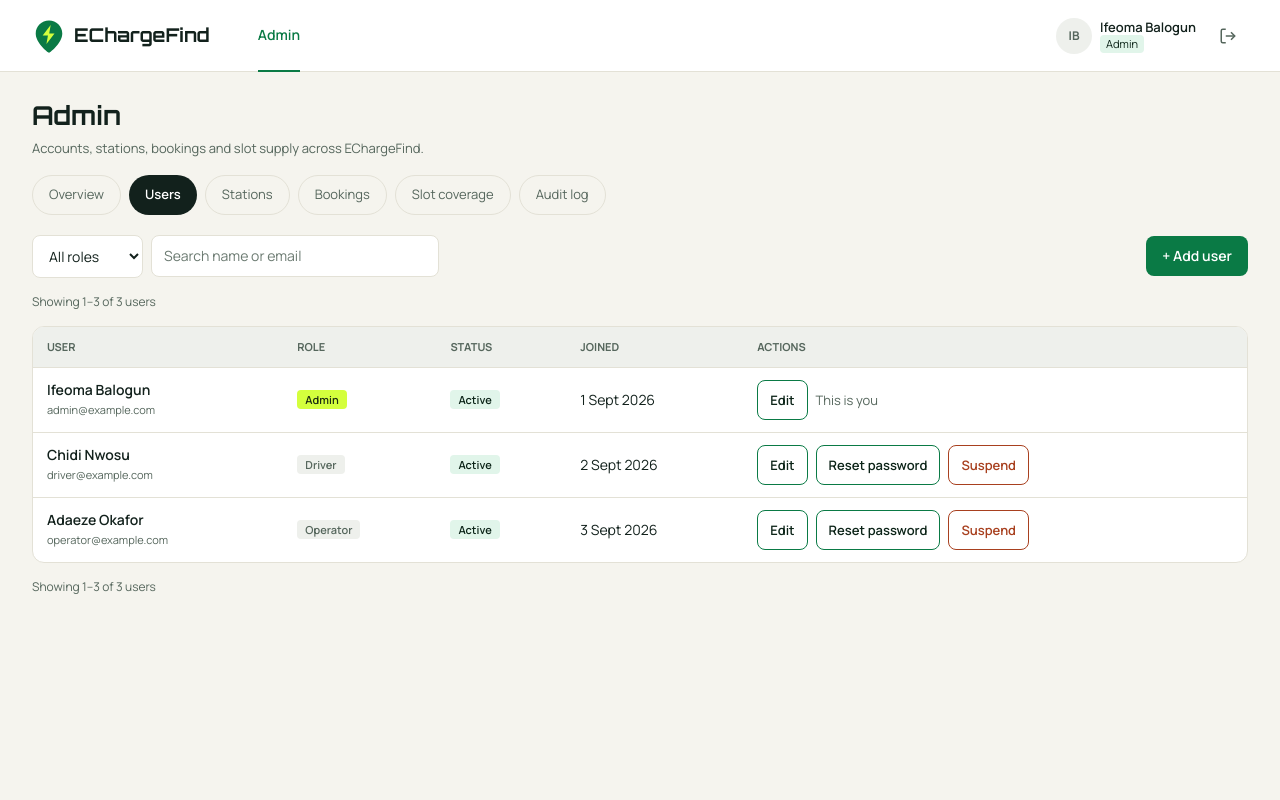
Scenario: admin users › shows the server's reason inside the dialog when a suspension is refused
Expected: the text "Chidi Nwosu" is shown, [47,444,130,464]
Click the button with aria-label "Suspend Adaeze Okafor". click: click(989, 530)
box: [948,510,1029,550]
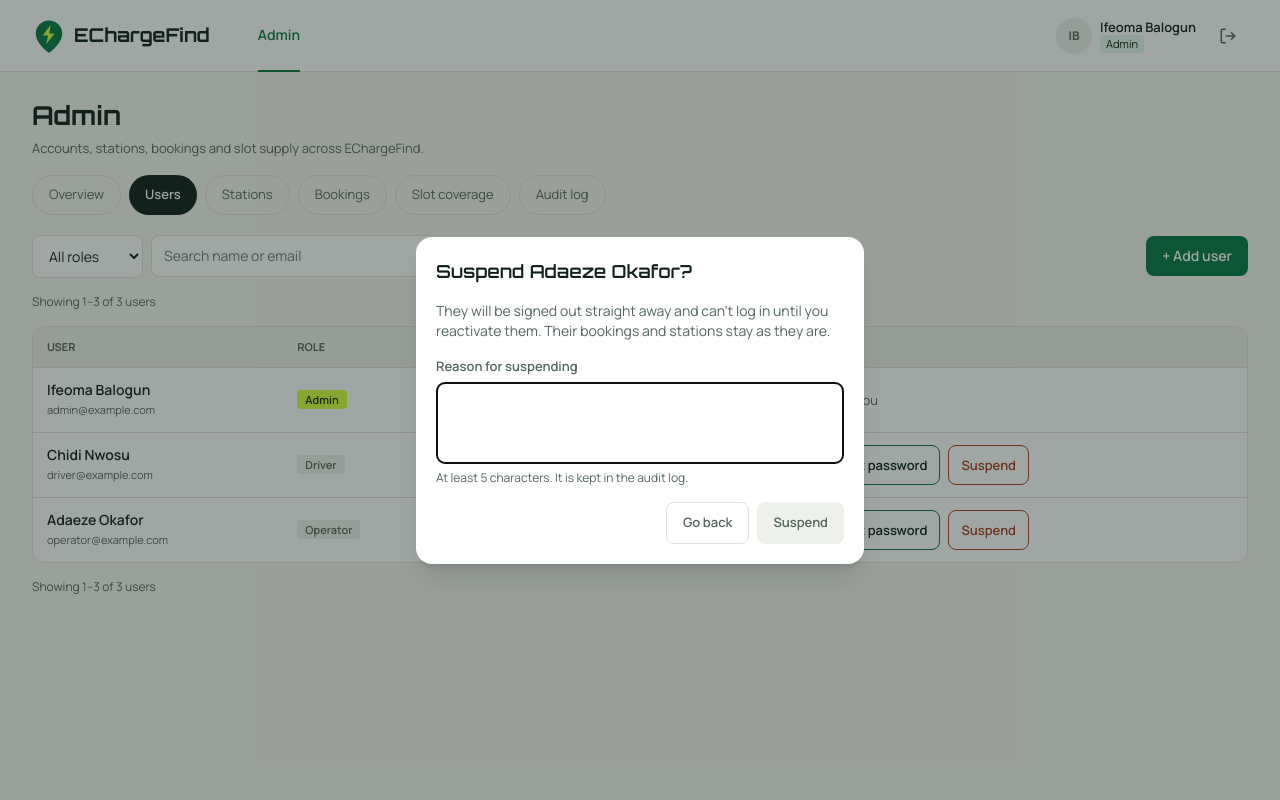
Type "Leaving the company" into the text box labelled "Reason for suspending". click: (640, 423)
box: [436,382,844,464]
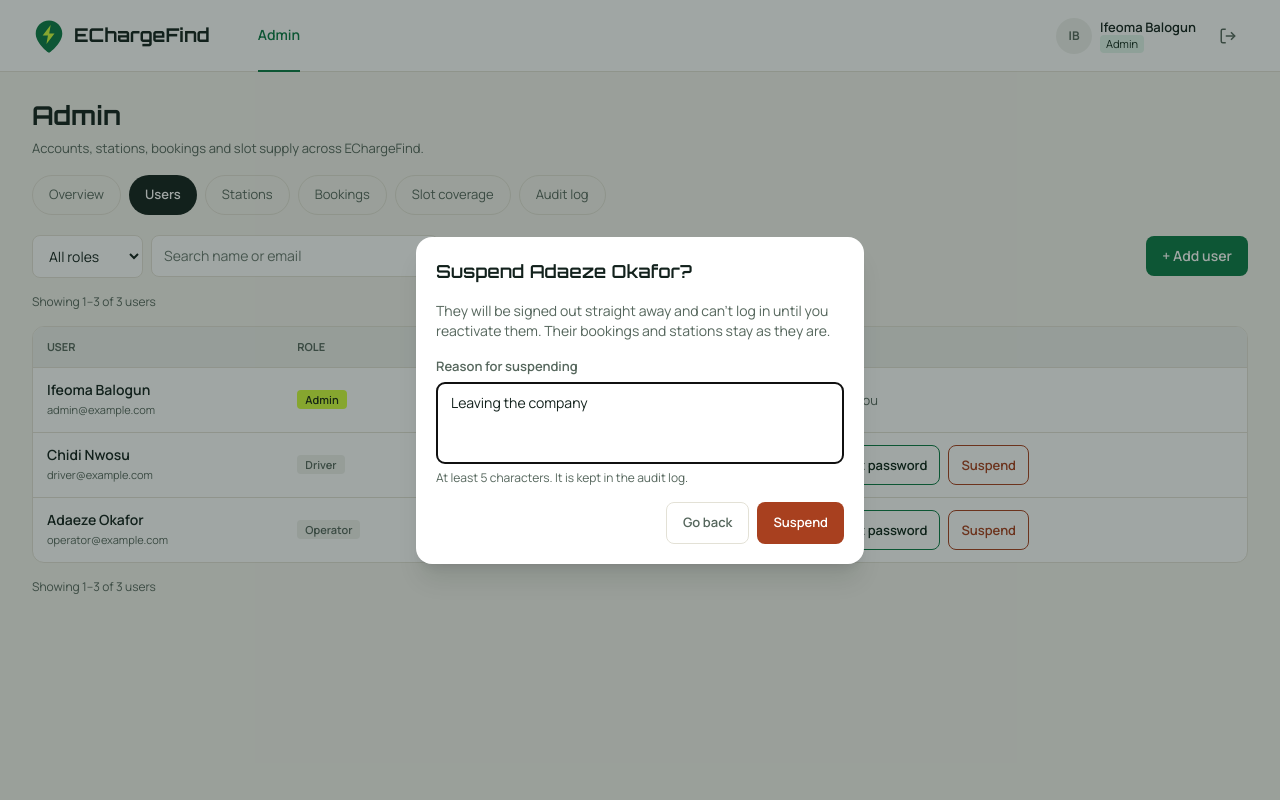
Click the button "Suspend". click: click(801, 523)
box: [757,502,844,544]
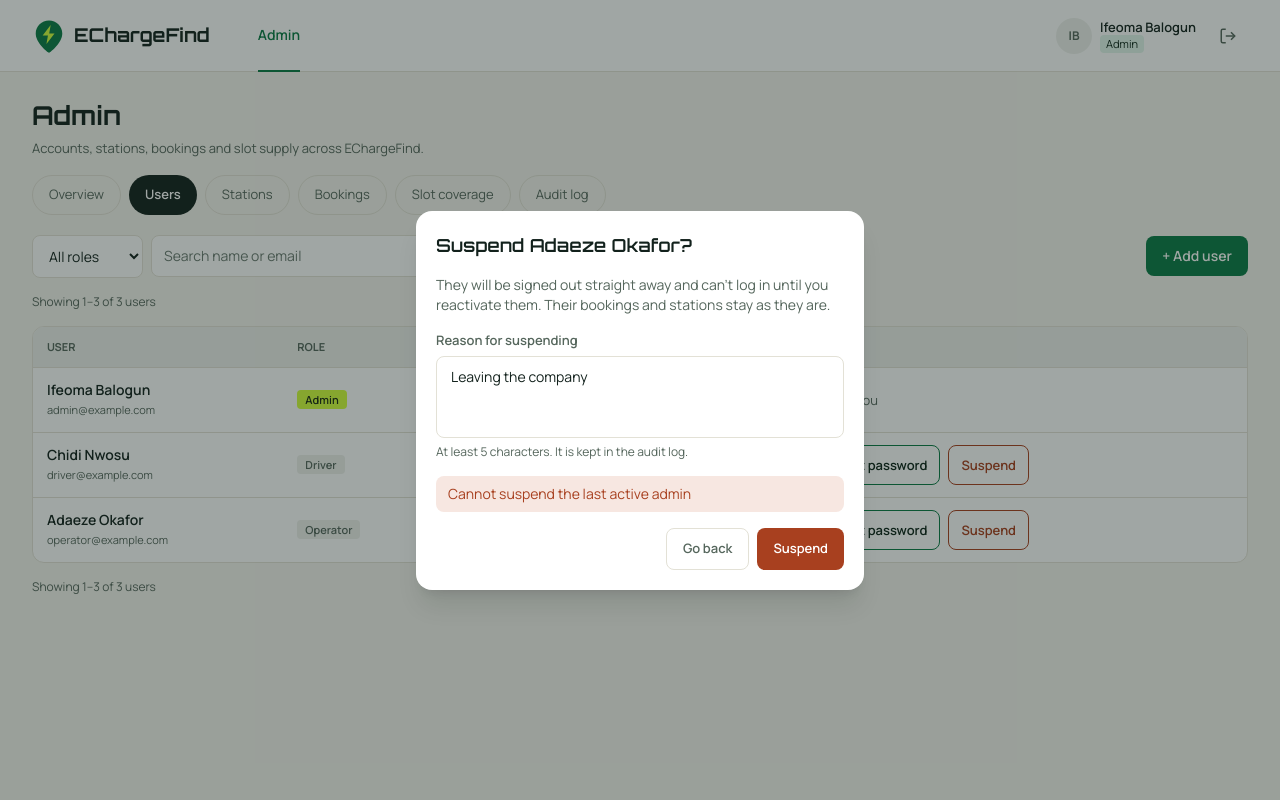
Now the dialog is shown, box [416,210,864,590]
Now the message reads "Cannot suspend the last active admin", box [448,484,691,503]
